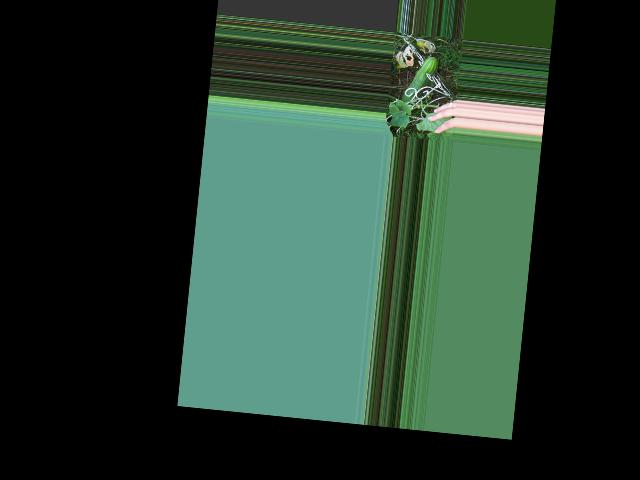cucumber: (401, 54, 439, 106)
